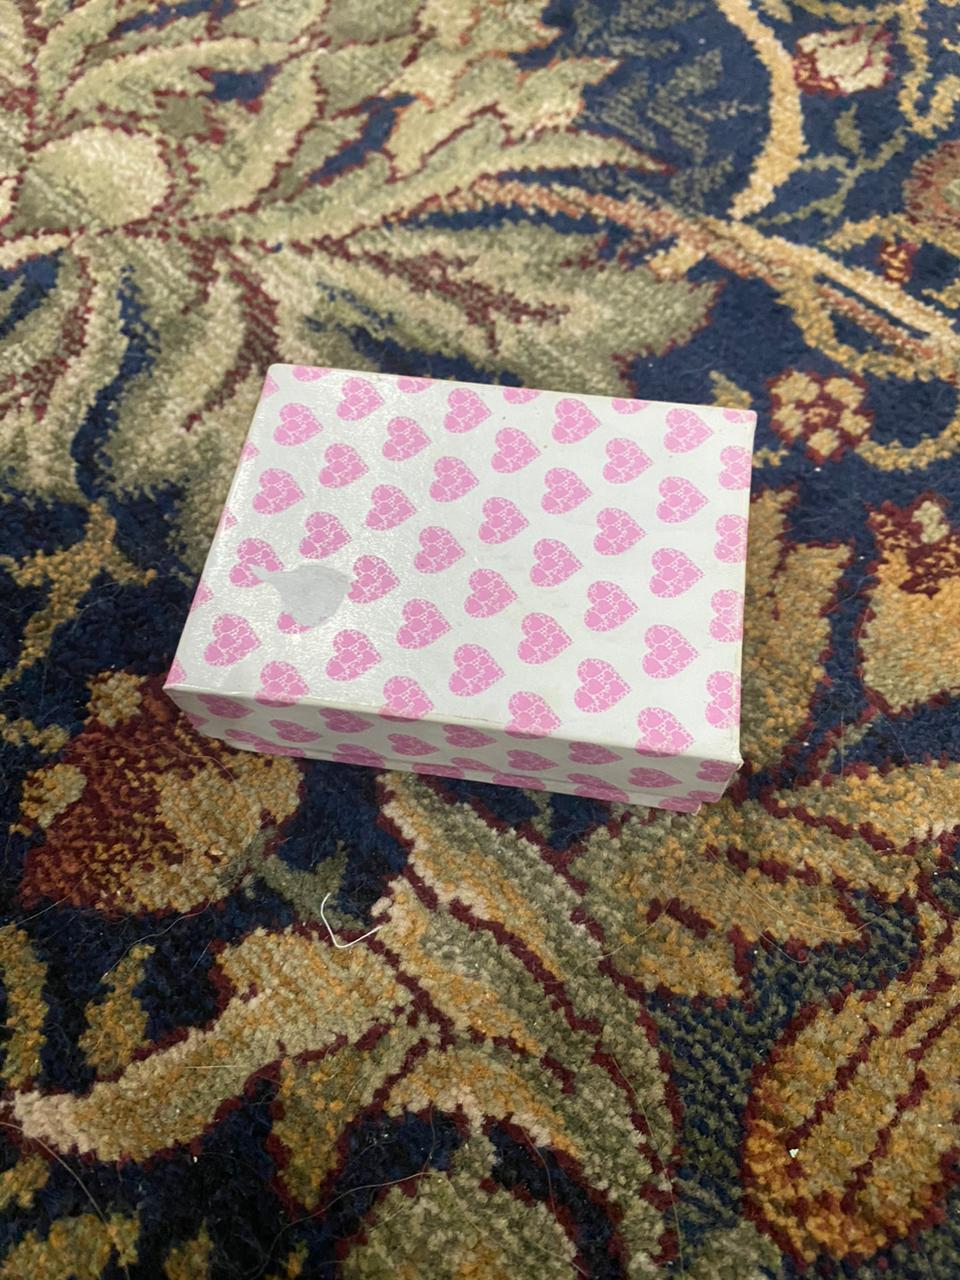Pink Box: (158, 342, 760, 833)
